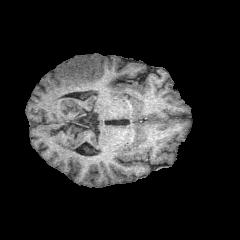glioma: (53, 54, 103, 86)
